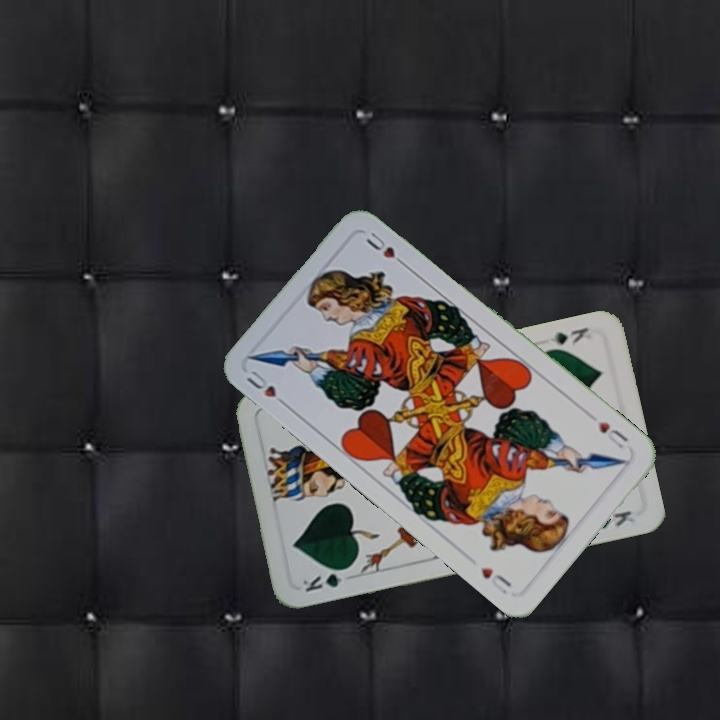GK: (298, 563, 354, 595), (546, 323, 591, 348)
HU: (242, 366, 292, 411), (593, 417, 631, 452)
